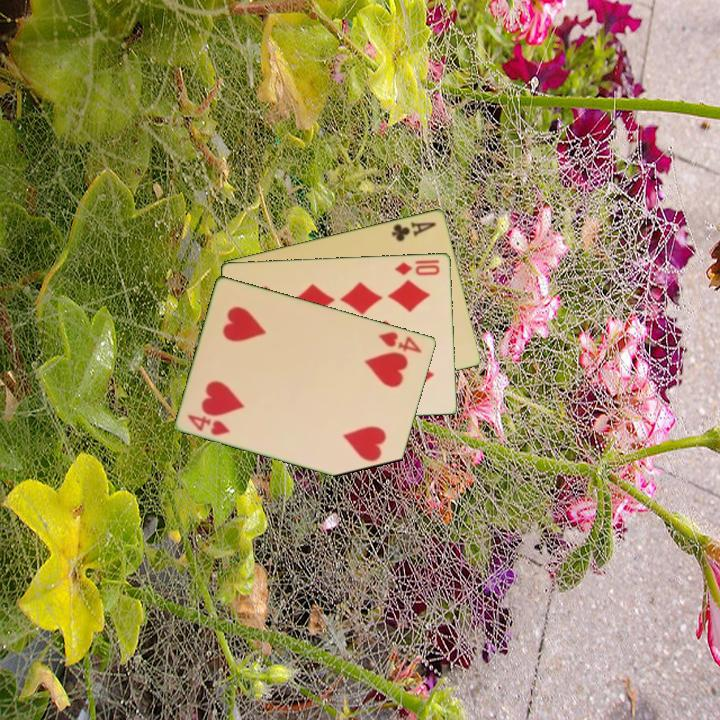10d: (391, 258, 443, 278)
4h: (375, 328, 425, 356), (184, 410, 233, 438)
Ac: (388, 218, 439, 244)
